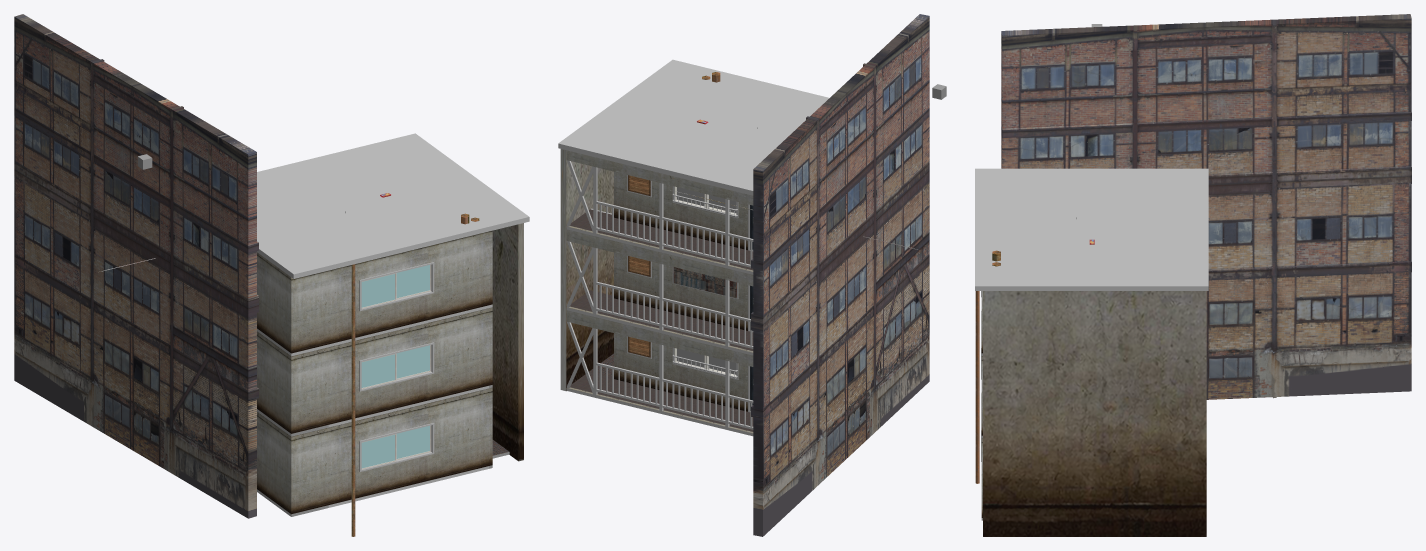
File: hemliga hogkvarteret sexxig bostad.fbx
3 renders of one model, left to right at view 1: azimuth 30°, elevation 25°; view 2: azimuth 150°, elevation 25°; view 3: azimuth 270°, elevation 25°, orthographic. The views are drawn at different scales.
Visible parts, largest first — view 1: pCube5, pCube9, main_structure2, main_structure1, main_structure, pCube6, glas_panel1 (×3), glas_panel2 (×3), pipe2; view 2: pCube5, pCube9, main_structure2, main_structure1, main_structure, pCube6, metal_staket2 (×3), metal_staket3 (×3), fonster (×2), corrugated_metal; view 3: pCube5, pCube6, pCube9, pipe2.
Boxes of the visible parts, <box> form: pCube5: <box>14,14,258,518</box>; pCube9: <box>257,133,529,278</box>; main_structure2: <box>257,387,509,516</box>; main_structure1: <box>257,307,492,436</box>; main_structure: <box>257,230,492,356</box>; pCube6: <box>492,223,523,461</box>; glas_panel1 (×3): <box>361,273,396,469</box>; glas_panel2 (×3): <box>396,264,431,459</box>; pipe2: <box>351,264,355,536</box>; pCube5: <box>751,14,929,536</box>; pCube9: <box>558,59,829,195</box>; main_structure2: <box>566,310,753,436</box>; main_structure1: <box>566,229,753,355</box>; main_structure: <box>566,150,753,274</box>; pCube6: <box>560,149,613,391</box>; metal_staket2 (×3): <box>662,217,725,422</box>; metal_staket3 (×3): <box>596,201,659,406</box>; fonster (×2): <box>674,186,736,376</box>; corrugated_metal: <box>673,267,736,298</box>; pCube5: <box>1001,14,1411,399</box>; pCube6: <box>983,291,1206,536</box>; pCube9: <box>975,168,1208,290</box>; pipe2: <box>975,291,979,483</box>.
Bounding box in the file's own units: 36.9 × 41.06 × 40.11.
